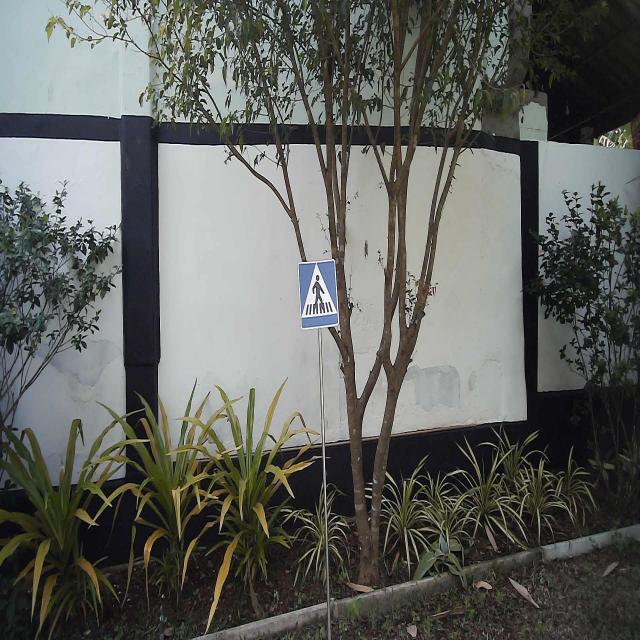crosswalk_sign: (298, 258, 342, 332)
